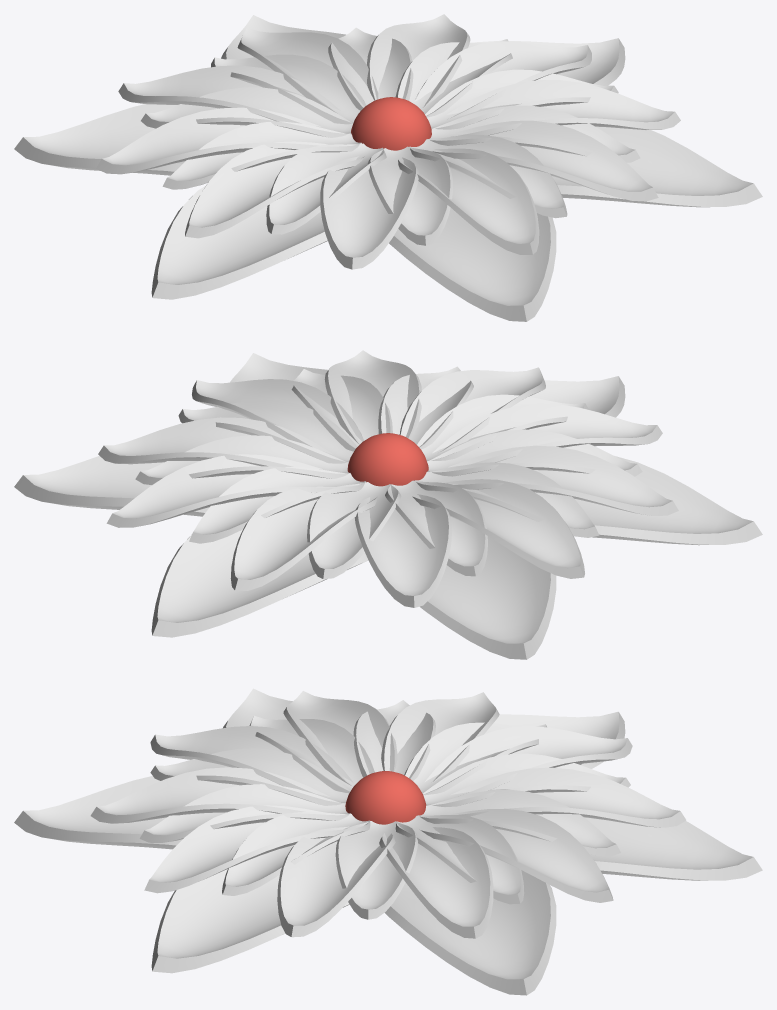
Rendered from florosa.fbx.
The picture shows the model from 3 angles, top to bottom: view 1: azimuth 30°, elevation 25°; view 2: azimuth 150°, elevation 25°; view 3: azimuth 270°, elevation 25°; orthographic projection.
Visible parts, largest first — view 1: Sphere021, Sphere034, Sphere031; view 2: Sphere021, Sphere034, Sphere031; view 3: Sphere021, Sphere034, Sphere031.
Boxes of the visible parts, x1,y1,x2,y2 form: Sphere021: (96,14,680,269); Sphere034: (14,15,762,321); Sphere031: (351,97,431,150); Sphere021: (98,350,678,607); Sphere034: (14,353,762,659); Sphere031: (347,433,428,486); Sphere021: (90,691,686,938); Sphere034: (14,688,762,995); Sphere031: (345,771,426,824).
Bounding box in the file's own units: 5537 × 694 × 5882.
